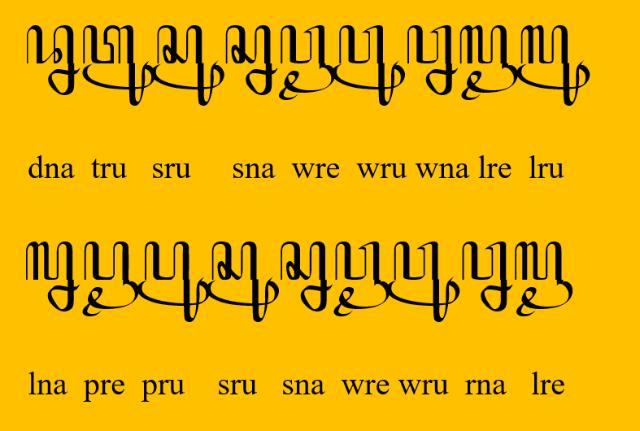dn: (26, 23, 80, 97)
ln: (24, 241, 80, 312)
lre: (458, 25, 518, 102), (514, 241, 574, 318)
lru: (518, 24, 590, 106)
pre: (82, 239, 140, 316)
pru: (138, 240, 210, 323)
sn: (224, 24, 278, 96), (281, 240, 333, 312)
sru: (208, 240, 280, 324), (153, 24, 225, 106)
tru: (81, 24, 155, 106)
wn: (461, 240, 514, 312), (407, 24, 458, 94)
wre: (333, 239, 391, 317), (279, 24, 335, 100)
wru: (332, 24, 406, 106), (388, 240, 460, 324)
